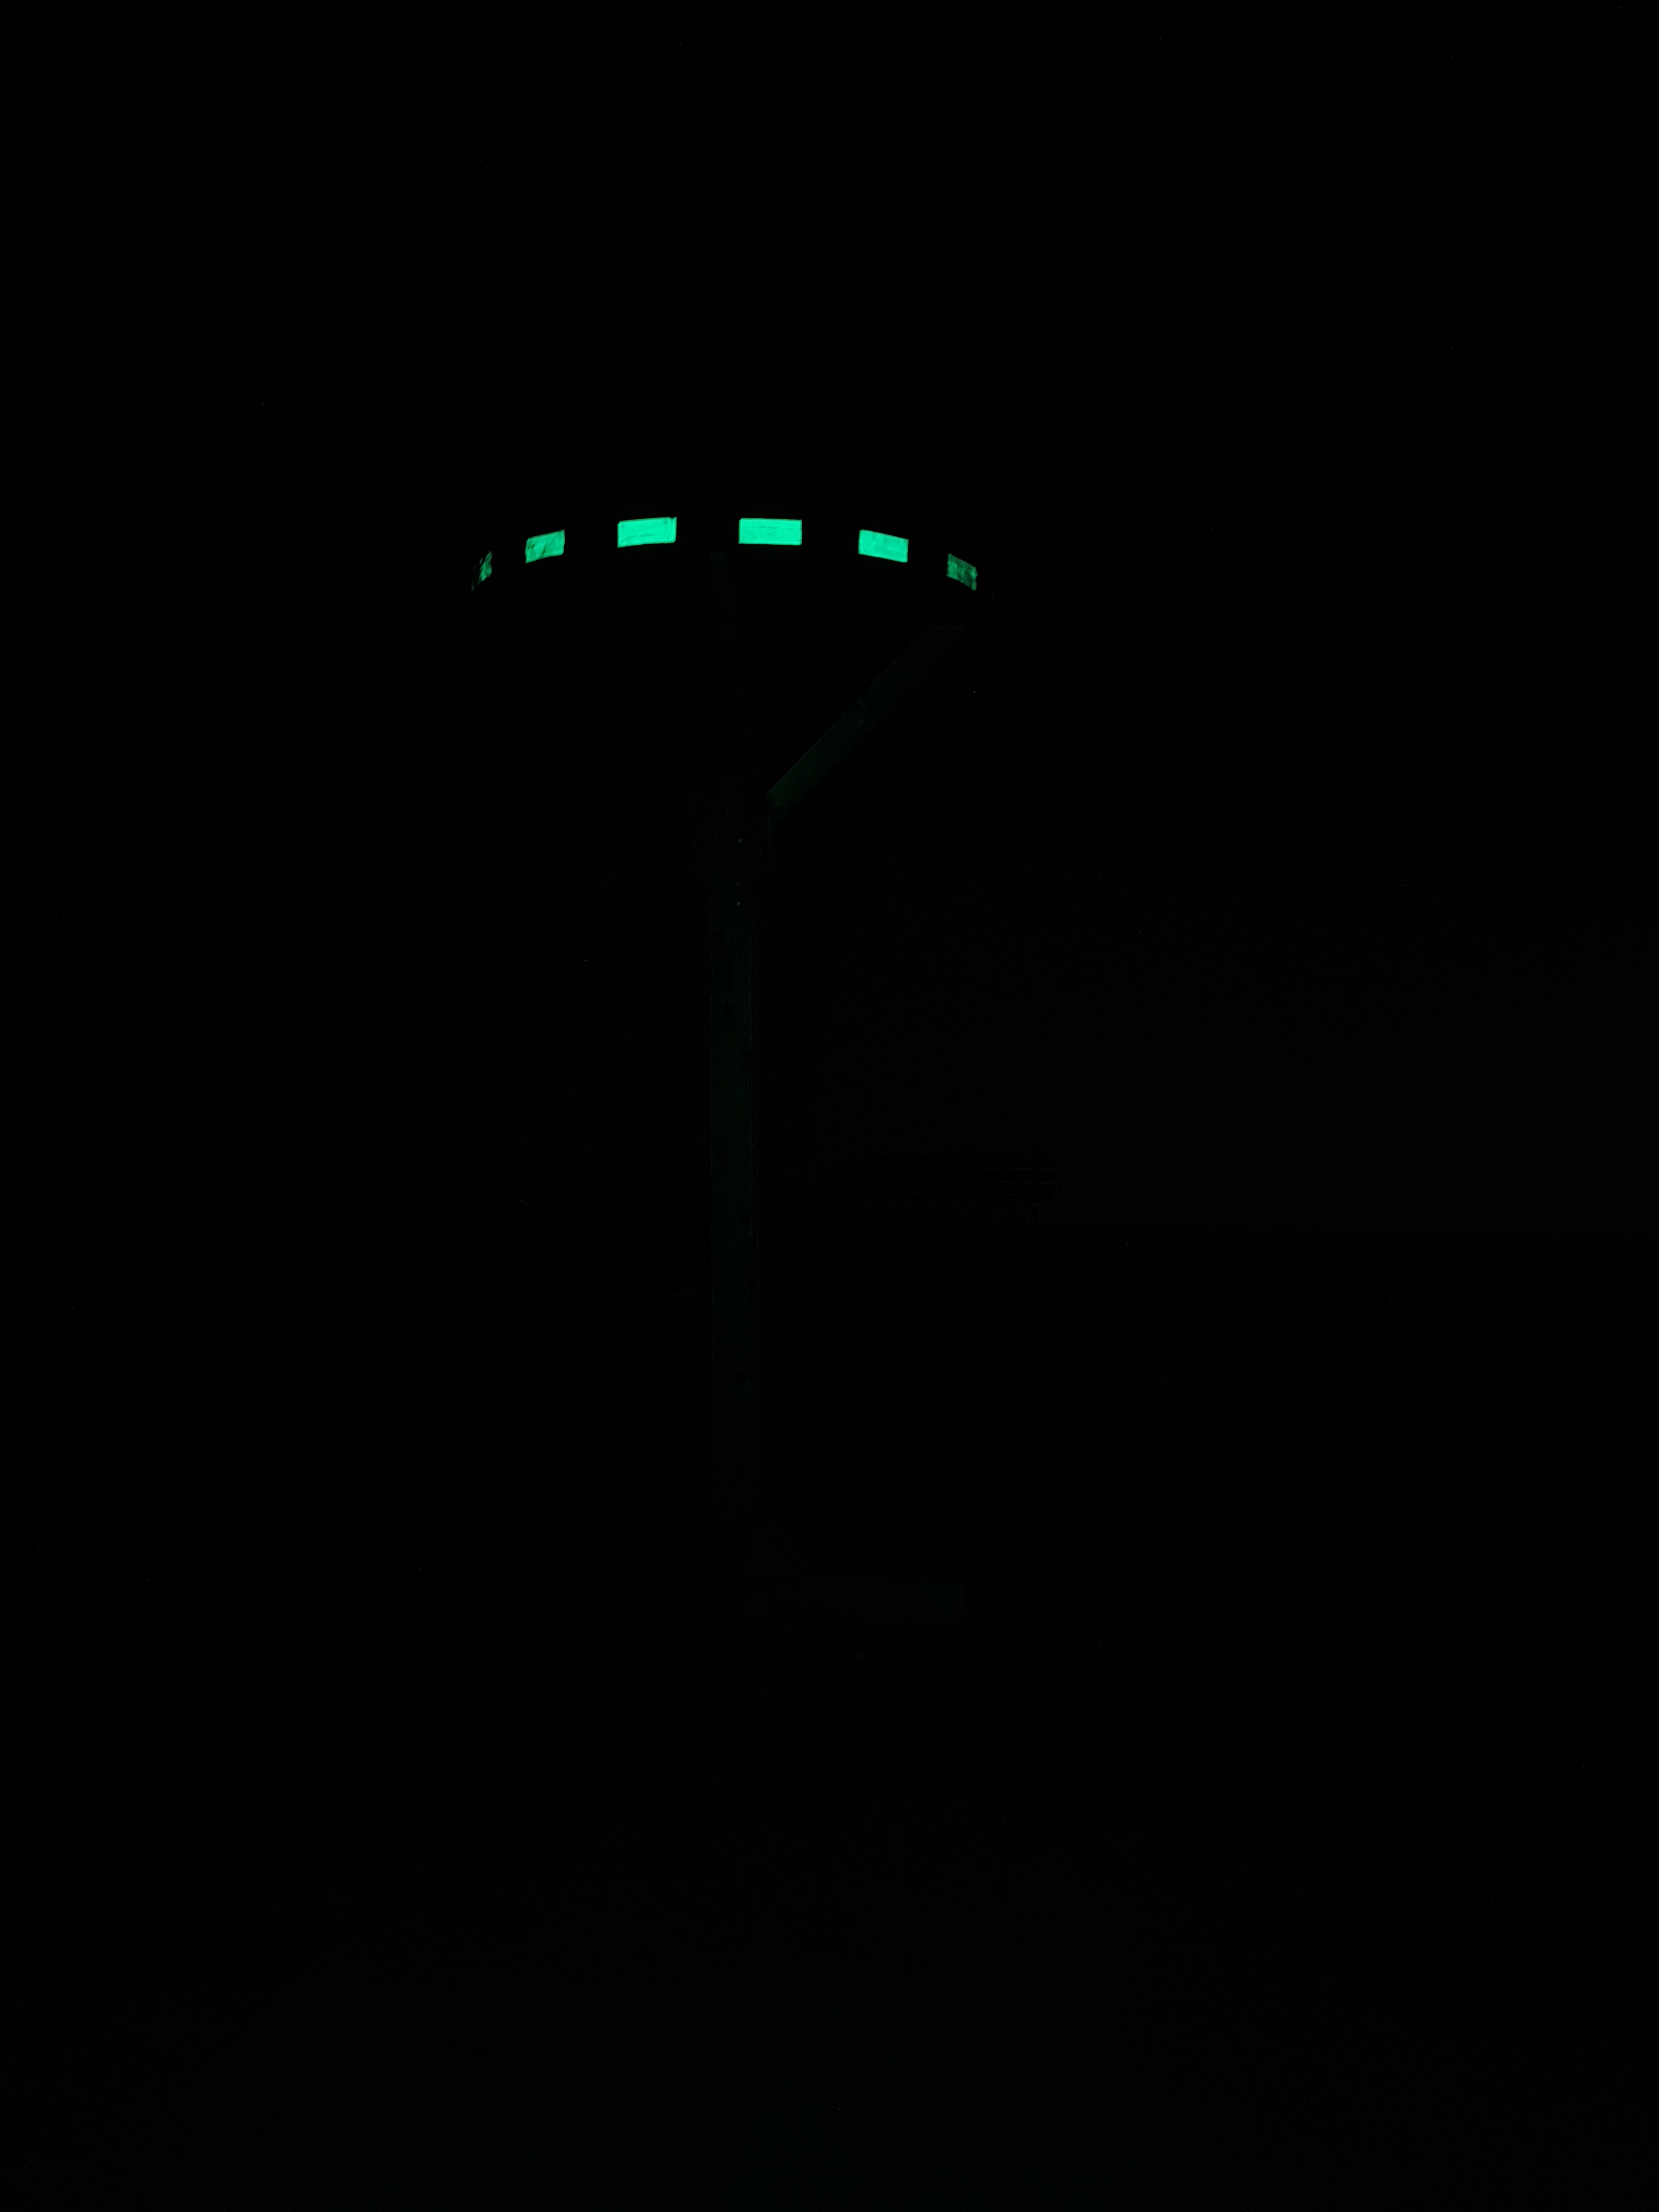hoop: (467, 516, 981, 597)
